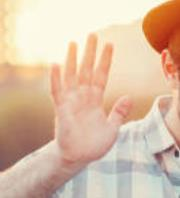down: (49, 31, 133, 165)
